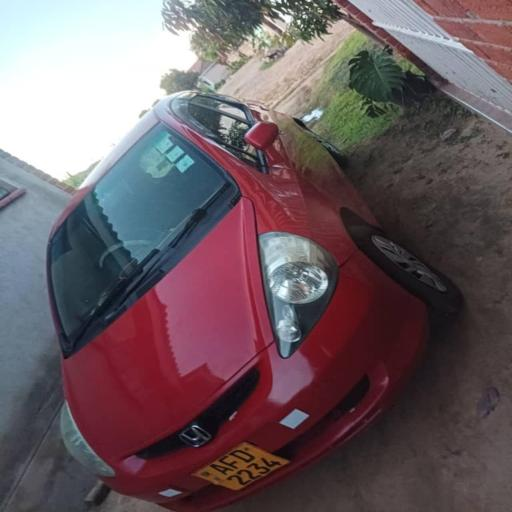number-plates: (188, 445, 288, 486)
